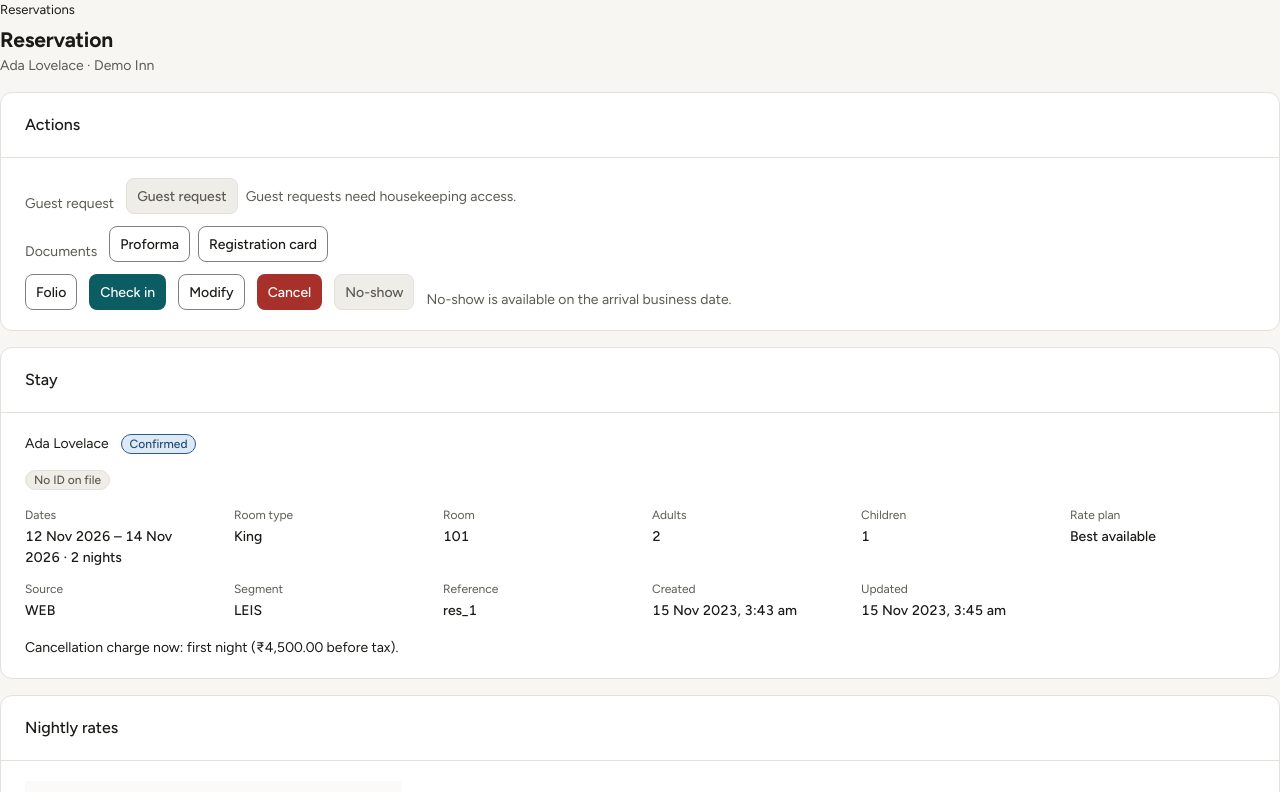
Test case: ReservationStayScreen › cancel dialog shows the preview amount
Click the button with test id "stay-cancel" at (289, 292), box [257,274,322,310]
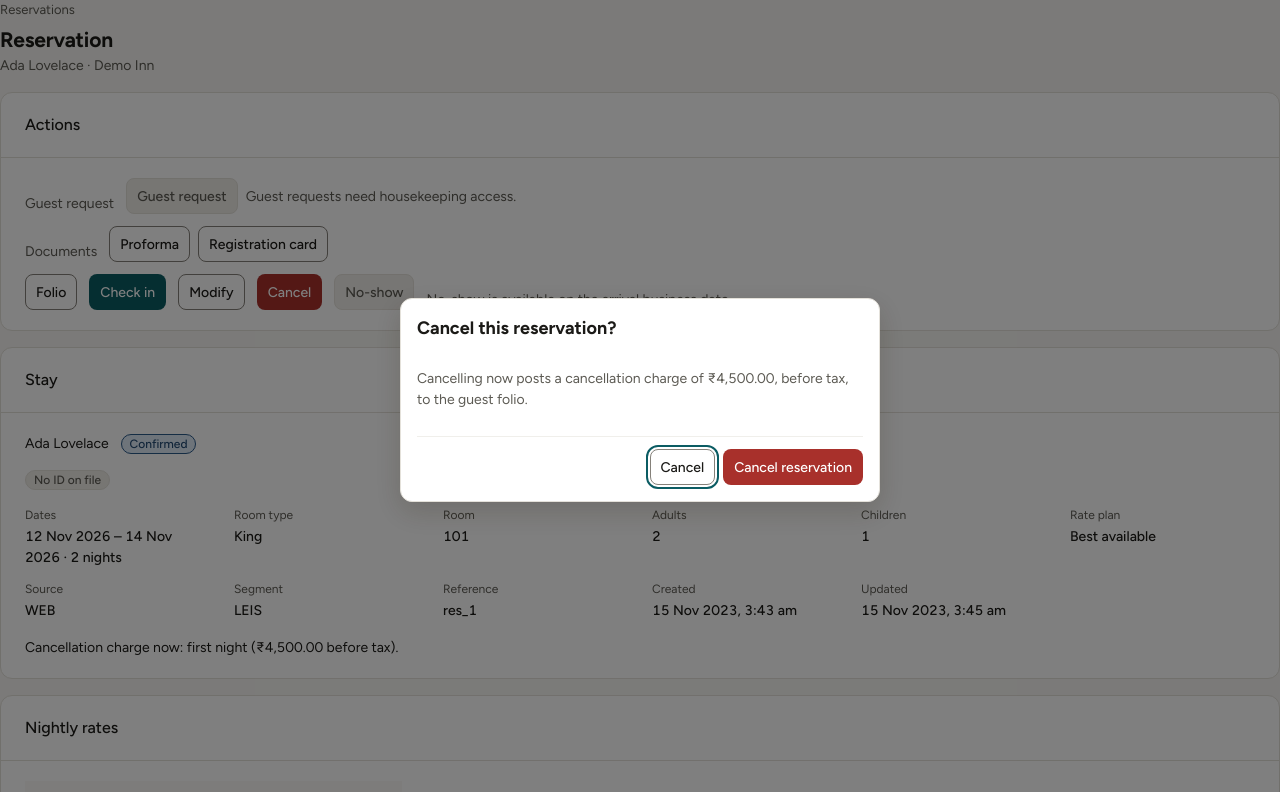
expect the text "Cancelling now posts a cancellation charge of ₹4,500.00, before tax, to the guest folio." is shown: met, box [417,370,848,408]
